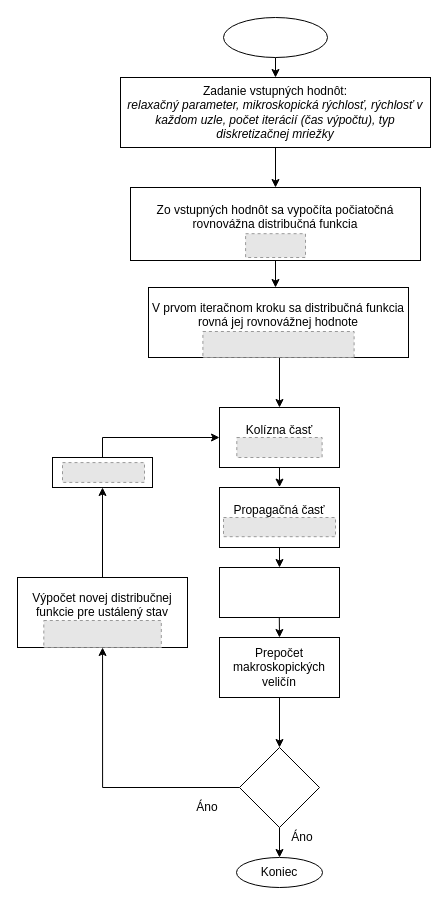
The diagram is 448 pixels wide and 905 high, and some of its shapes have lost their labels. Grey dashed boxes stand in for pictures. The centre of each missing label's shape, as x and y in pixels:
"Implementácia okrajových podmienok" goes at [279,592].
"t < T" goes at [279,787].
"Začiatok" goes at [275,37].
